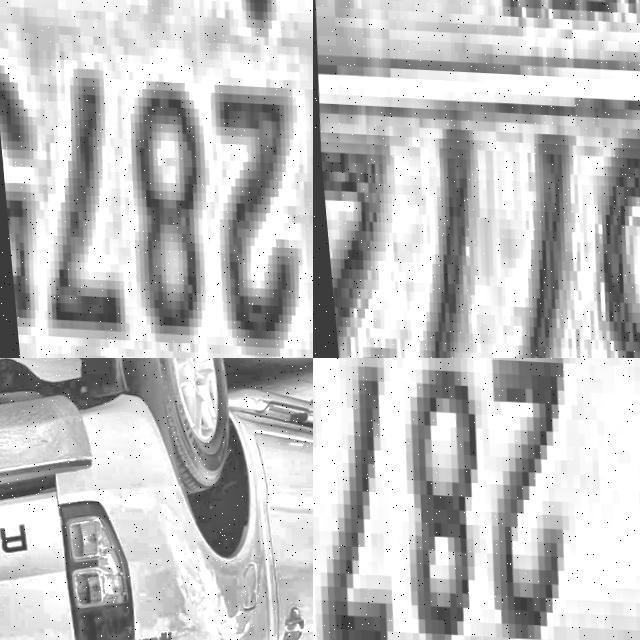license-plate: (313, 0, 640, 358), (0, 0, 313, 358), (313, 358, 640, 640)
